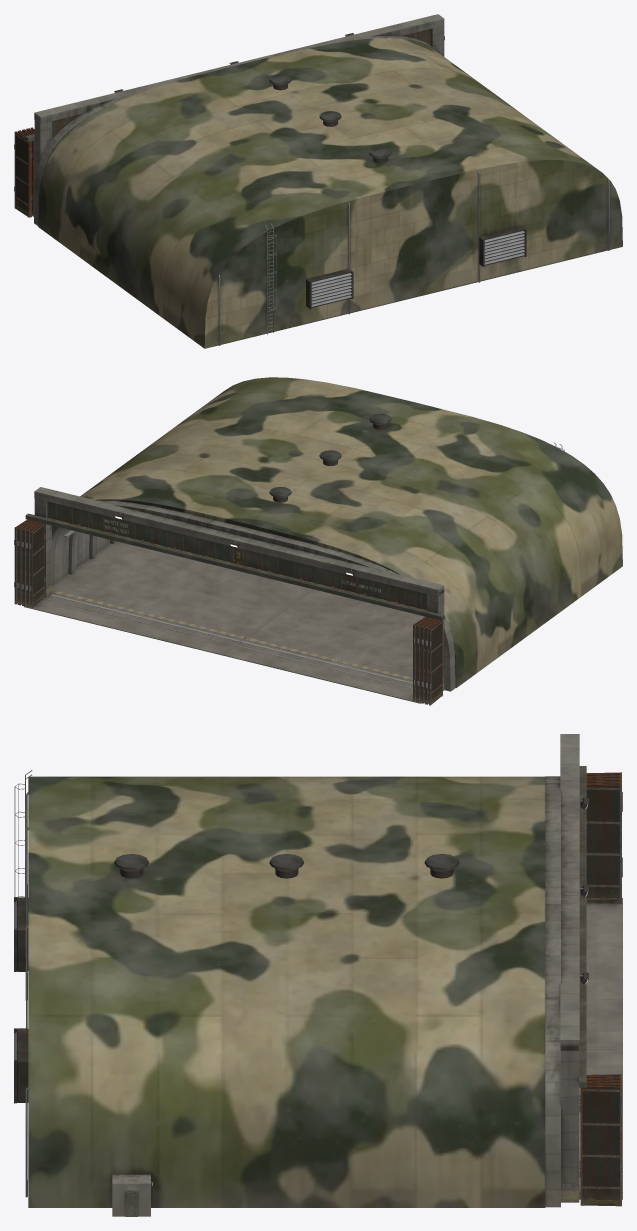
The model's file is base_hardened_shelter.glb.
The picture shows the model from 3 angles, top to bottom: view 1: azimuth 30°, elevation 25°; view 2: azimuth 150°, elevation 25°; view 3: azimuth 270°, elevation 25°; orthographic projection. The views are drawn at different scales.
Parts seen in each view (by area): view 1: lod0; view 2: lod0; view 3: lod0.
Boxes of the visible parts, <box> form: lod0: <box>14,14,622,348</box>; lod0: <box>14,377,622,705</box>; lod0: <box>14,734,622,1216</box>.
Size of what is drawn, in the model's own units: 59.65 by 16.2 by 47.1.
3 materials, 1 textured.
